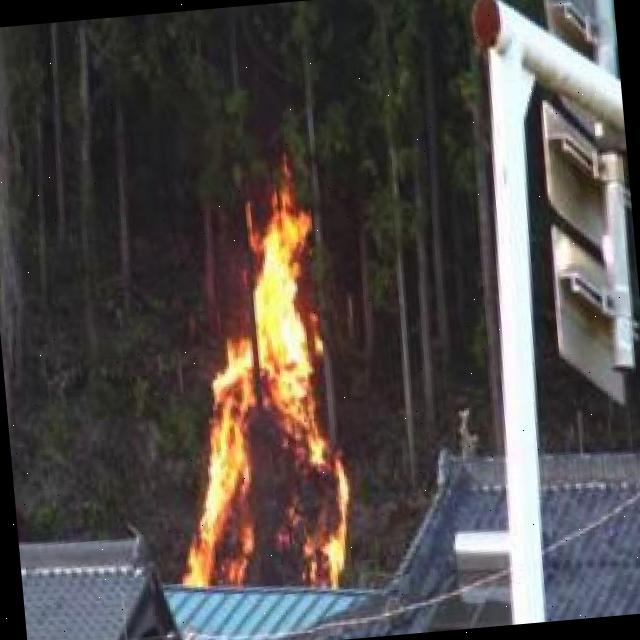fire: (158, 213, 356, 602)
